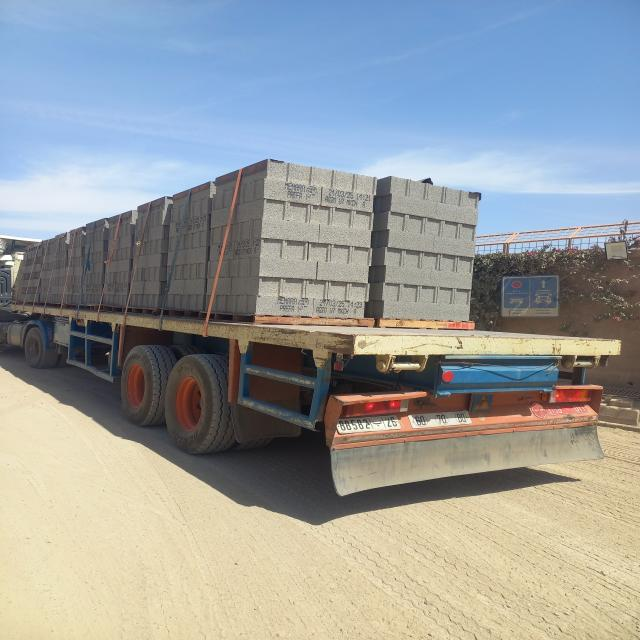bricks: (14, 159, 479, 320)
